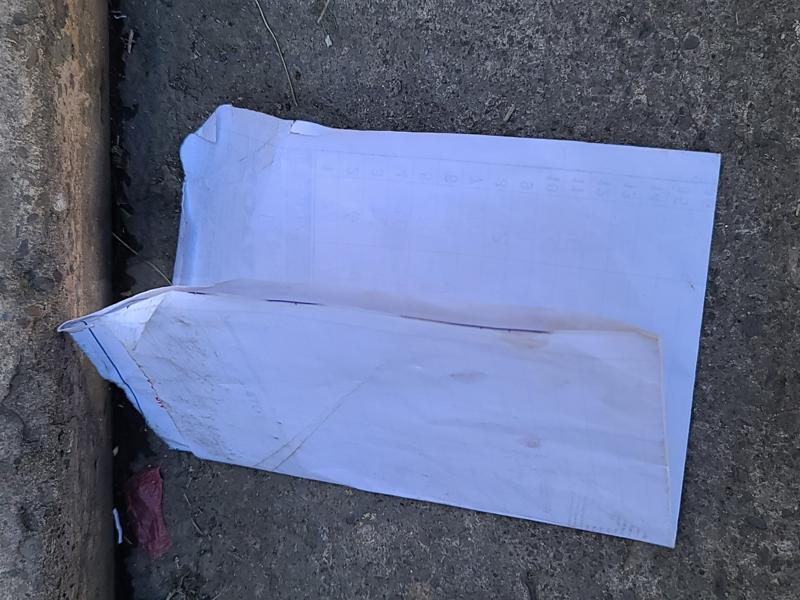papel: (59, 105, 724, 551)
